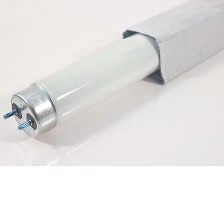carton: (117, 0, 224, 90)
light_bulb: (1, 0, 223, 141)
